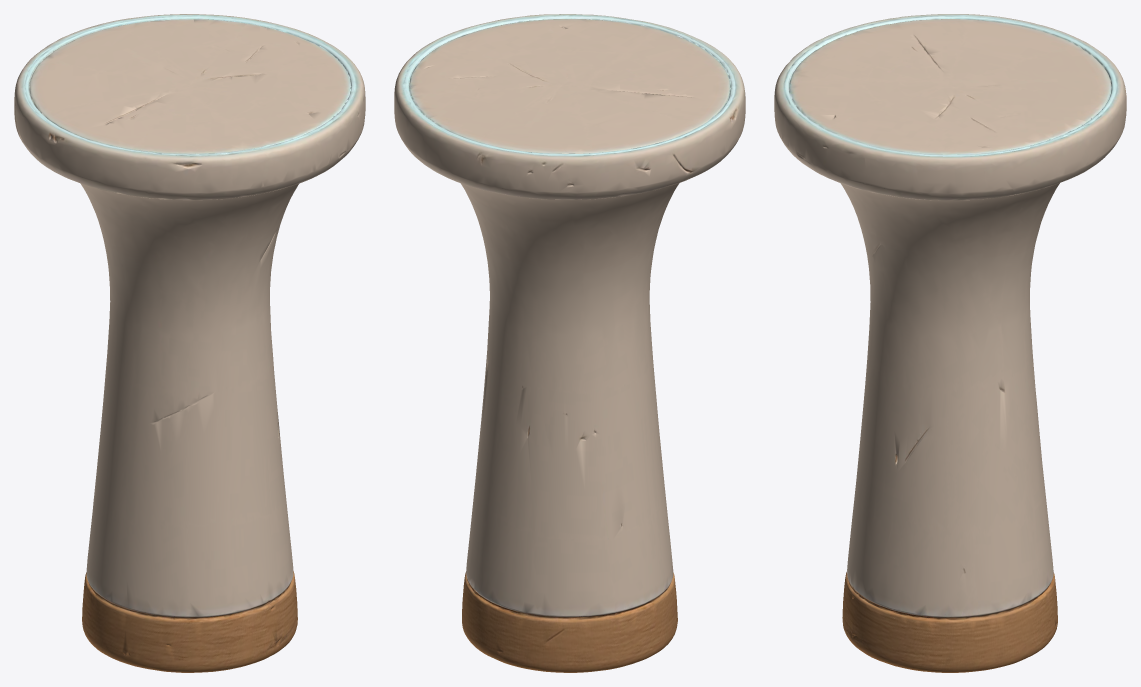
File: plinth.high.glb
The picture shows the model from 3 angles, left to right: view 1: azimuth 30°, elevation 25°; view 2: azimuth 150°, elevation 25°; view 3: azimuth 270°, elevation 25°; orthographic projection.
Visible parts, largest first — view 1: tripo_node_3f8d8bd0-45ca-4649-9d94-56b4f829f990; view 2: tripo_node_3f8d8bd0-45ca-4649-9d94-56b4f829f990; view 3: tripo_node_3f8d8bd0-45ca-4649-9d94-56b4f829f990.
Boxes of the visible parts, bbox=[...] form: tripo_node_3f8d8bd0-45ca-4649-9d94-56b4f829f990: bbox=[14, 14, 365, 672]; tripo_node_3f8d8bd0-45ca-4649-9d94-56b4f829f990: bbox=[394, 14, 745, 672]; tripo_node_3f8d8bd0-45ca-4649-9d94-56b4f829f990: bbox=[774, 14, 1126, 672].
Size of the model in its own units: 0.5799 by 0.9899 by 0.58.
Materials: 1 (1 with a texture image).
